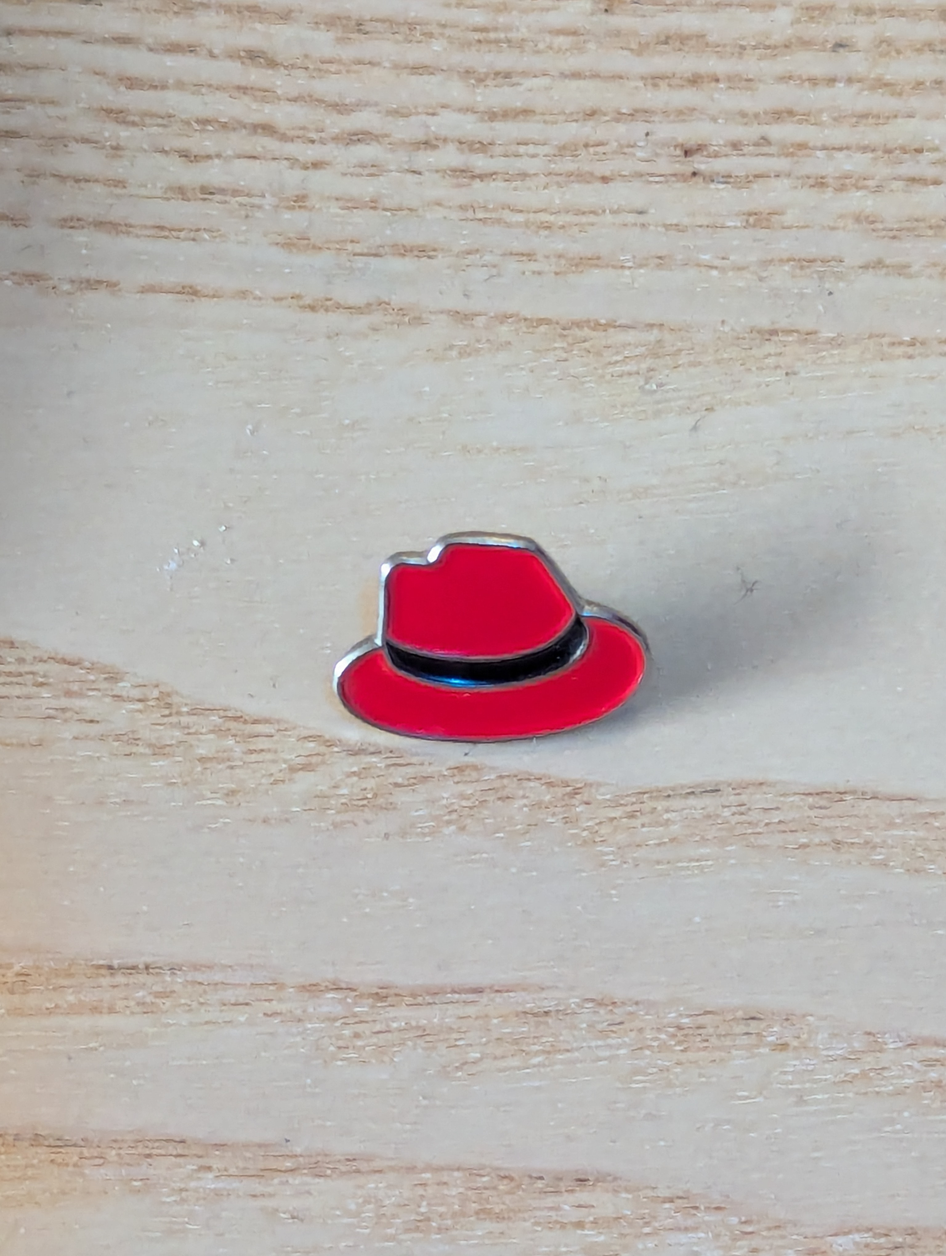Red-Hat: (219, 445, 834, 897)
